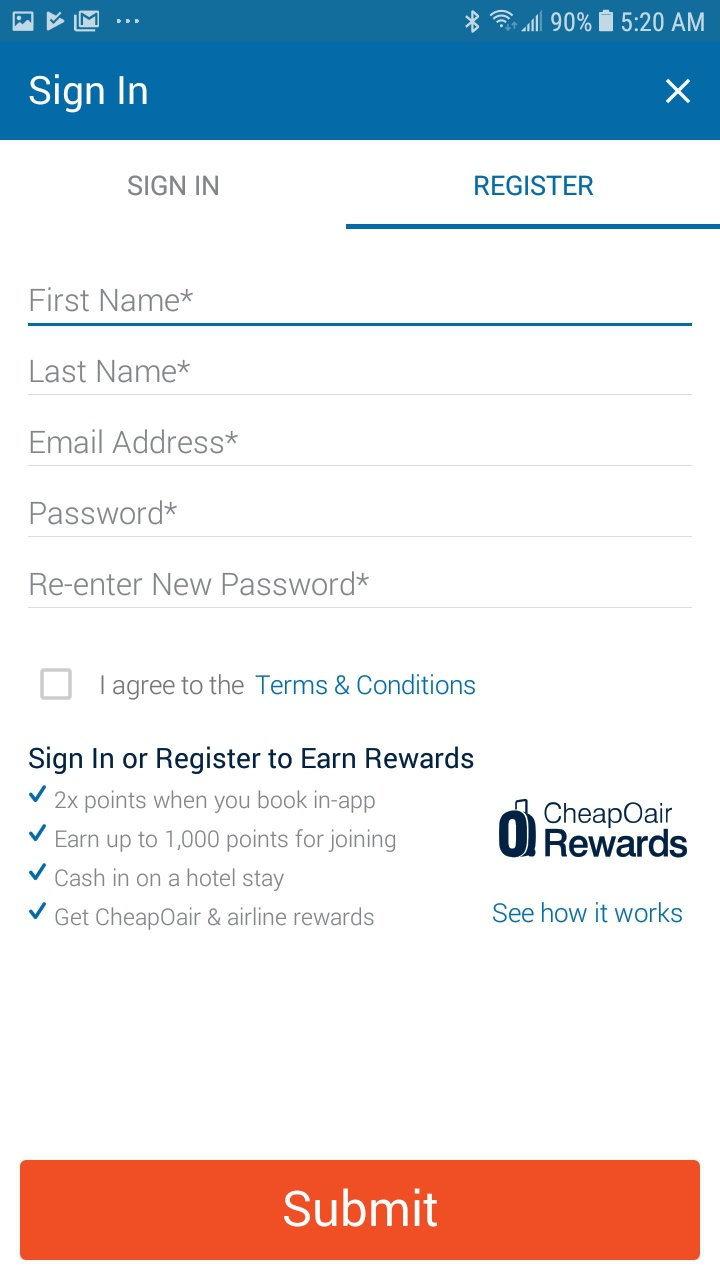CheckedTextView: (41, 668, 477, 701)
EditText: (28, 285, 693, 327), (28, 499, 692, 538), (29, 570, 693, 609), (28, 429, 693, 467), (28, 360, 692, 396)
Icon: (665, 79, 691, 105), (29, 823, 48, 842), (29, 863, 48, 881), (29, 902, 48, 920), (30, 785, 48, 803)
Image: (499, 798, 537, 859)
Text: (29, 745, 474, 775), (101, 673, 477, 701), (56, 828, 396, 853), (543, 801, 688, 859), (31, 572, 370, 596), (55, 789, 377, 814), (55, 906, 375, 931), (55, 867, 285, 892), (32, 430, 239, 455), (30, 73, 149, 114), (493, 900, 683, 925), (31, 287, 194, 313), (30, 500, 178, 526), (31, 360, 192, 383), (475, 175, 594, 197), (128, 175, 219, 197)
TextButton: (20, 1159, 700, 1260)
UpperTaskBar: (1, 1, 720, 43)
